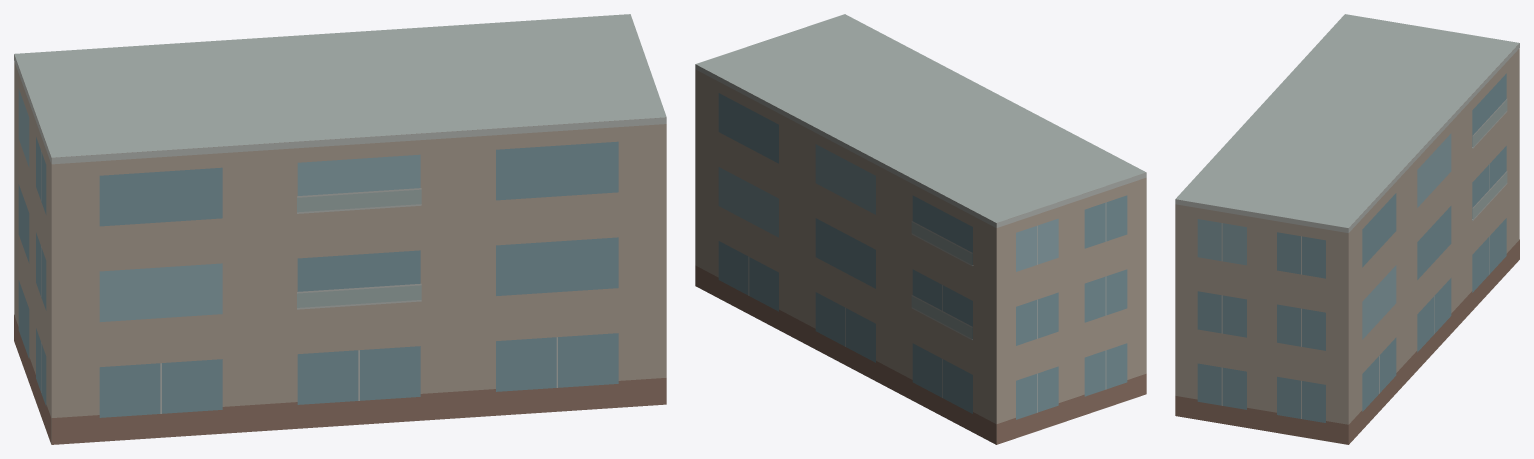
Rendered from survey-upis-32974921.glb.
The picture shows the model from 3 angles, left to right: view 1: azimuth 30°, elevation 25°; view 2: azimuth 150°, elevation 25°; view 3: azimuth 270°, elevation 25°; orthographic projection. The views are drawn at different scales.
Visible parts, largest first — view 1: survey-upis-32974921.tmp; view 2: survey-upis-32974921.tmp; view 3: survey-upis-32974921.tmp.
Part boxes in pixels (x1,y1,x2,y2): survey-upis-32974921.tmp: (14, 14, 666, 444); survey-upis-32974921.tmp: (695, 14, 1146, 444); survey-upis-32974921.tmp: (1175, 14, 1519, 444).
Bounding box in the file's own units: 22.26 × 10.5 × 15.14.
